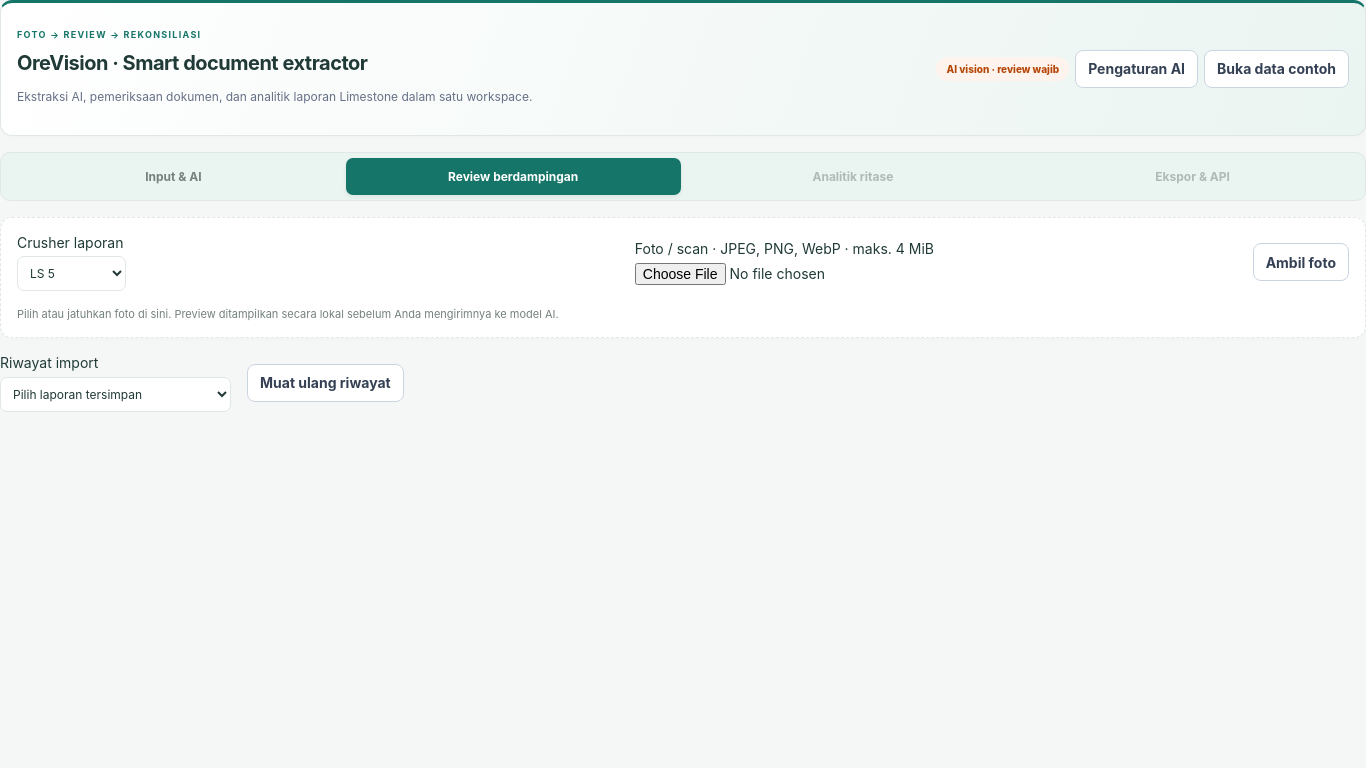
it: photo report review UI › keeps confirmed reports visibly retained for supervisors
This screenshot has width=1366, height=768.
Select "test.jpg · CONFIRMED · 31/8/2026" in the dropdown named "Riwayat import foto" at (116, 394), box [0,377,231,412]
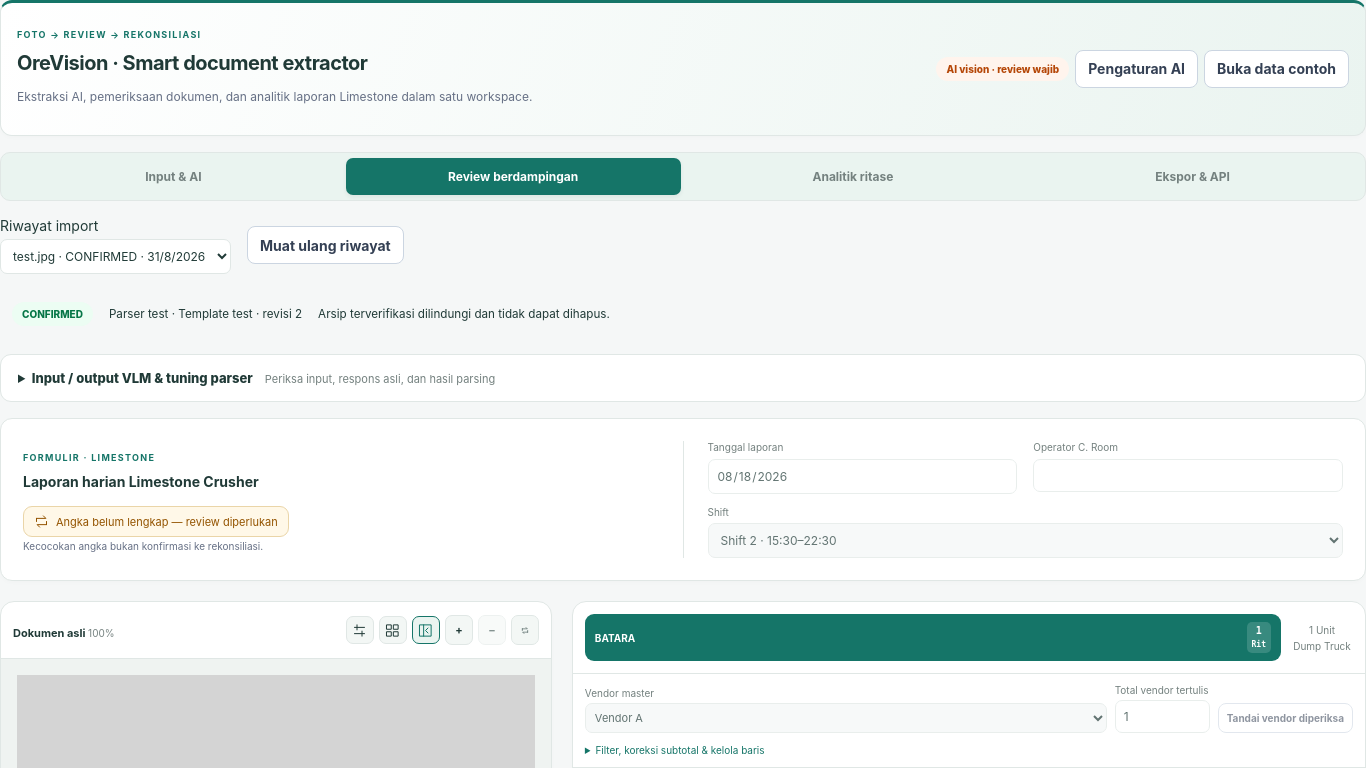
Now the text "Arsip terverifikasi dilindungi dan tidak dapat dihapus." is shown, box [318,307,610,321]
